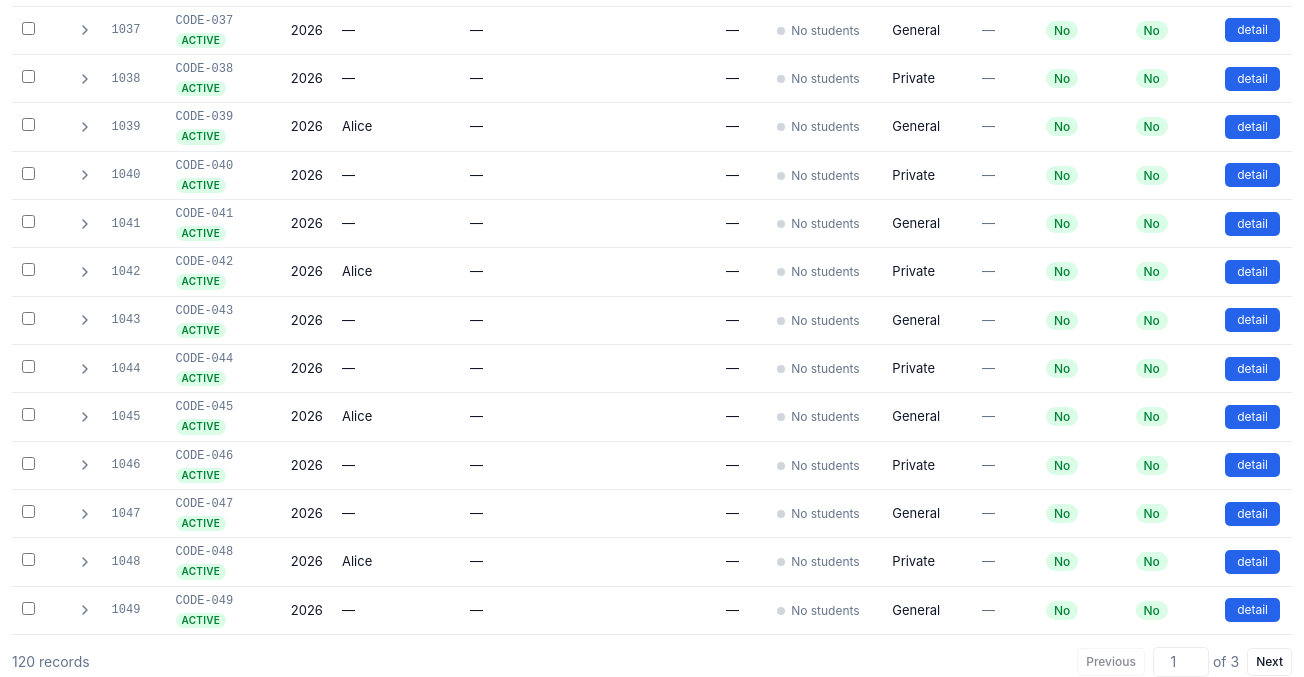
Courses filters and pagination › paginates with Previous/Next and keepPreviousData
The width and height of the screenshot is (1304, 677).
(page scrolled)
Expected: the text "120 records" is shown, [12, 652, 90, 672]
Expected: the text "of 3" is shown, [1213, 652, 1239, 672]
Click the button "Next" at (1270, 662), box [1247, 648, 1292, 676]
(page scrolled)
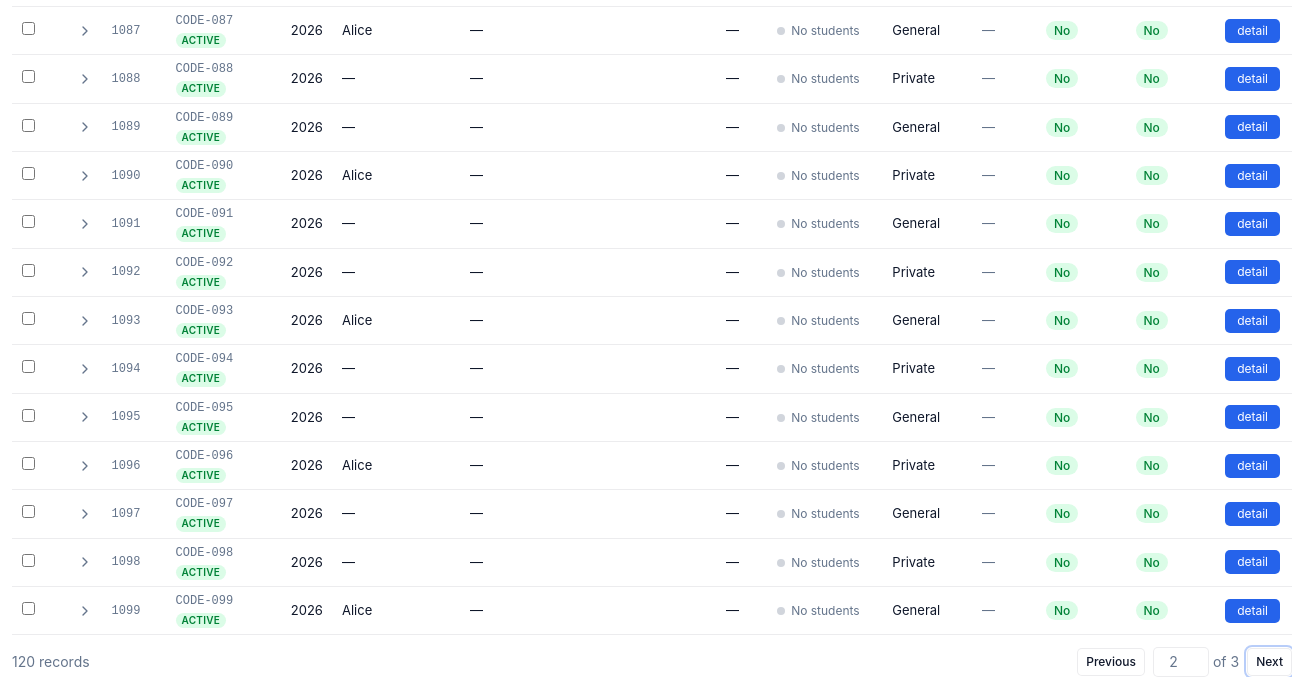
Now the button "Previous" is enabled
Click the button "Previous" at (1111, 662), box [1077, 648, 1145, 676]
(page scrolled)
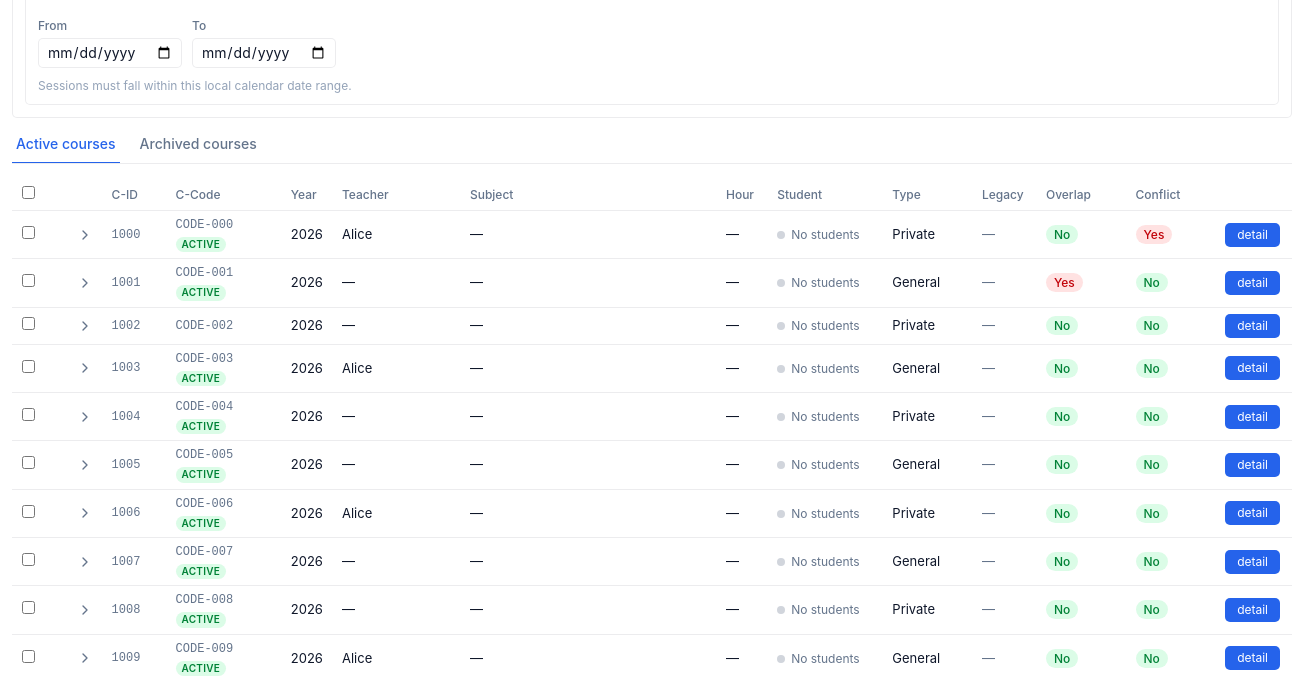
Now the text "CODE-000" is shown, box [176, 217, 233, 233]
